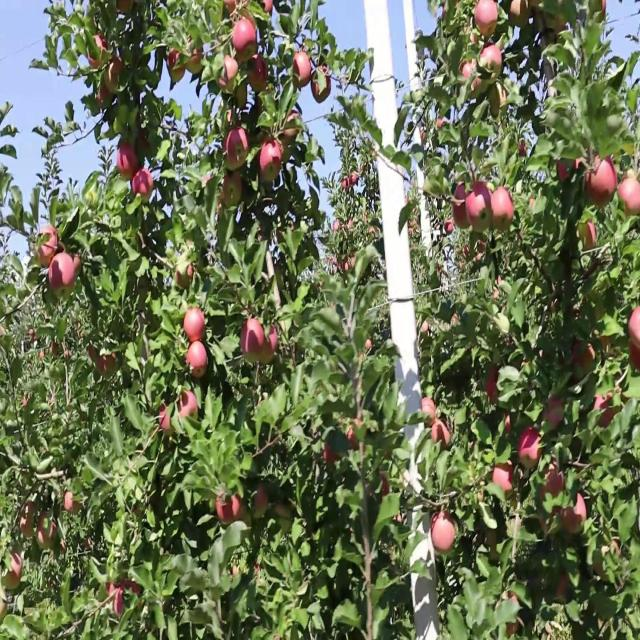apple: (592, 156, 618, 204), (540, 462, 566, 510), (468, 184, 492, 233), (564, 490, 588, 535), (596, 540, 623, 580), (432, 511, 456, 555), (492, 191, 516, 235), (500, 590, 522, 638), (36, 227, 60, 270), (48, 255, 75, 293), (220, 170, 244, 212), (520, 426, 543, 469), (216, 490, 243, 526), (116, 583, 143, 619), (228, 127, 250, 171), (240, 319, 264, 359), (236, 21, 259, 62), (260, 142, 283, 183), (476, 1, 500, 39), (116, 142, 140, 180), (312, 63, 332, 107), (292, 49, 312, 91), (184, 305, 207, 341), (460, 56, 483, 92), (584, 170, 607, 206), (480, 42, 504, 76), (596, 391, 618, 428), (452, 184, 470, 228), (492, 462, 515, 496), (544, 398, 567, 432), (188, 341, 208, 380), (248, 56, 268, 94), (620, 177, 640, 215), (132, 170, 155, 203), (88, 35, 109, 71), (572, 341, 596, 372), (260, 327, 280, 364), (4, 554, 24, 590), (220, 56, 240, 91), (488, 85, 508, 119), (348, 412, 365, 452), (108, 56, 127, 91), (432, 419, 452, 452), (280, 113, 301, 144), (168, 49, 186, 85), (508, 0, 531, 28), (40, 511, 57, 548), (556, 156, 579, 183), (180, 391, 200, 420), (176, 263, 196, 292), (188, 42, 204, 78), (484, 369, 500, 404), (160, 405, 176, 436), (420, 398, 438, 425), (108, 583, 122, 617), (140, 127, 154, 160), (628, 305, 640, 343), (64, 490, 81, 516), (584, 220, 597, 251), (24, 497, 38, 523), (100, 355, 118, 375), (236, 85, 249, 112), (256, 483, 268, 512), (96, 85, 111, 108), (324, 447, 340, 468), (556, 575, 570, 599), (20, 519, 35, 540), (72, 255, 84, 281), (116, 0, 135, 16), (104, 355, 118, 375), (380, 476, 391, 500), (632, 341, 640, 372), (224, 0, 238, 16), (96, 355, 107, 375), (504, 412, 513, 434), (264, 0, 275, 16), (88, 348, 98, 363), (84, 540, 92, 551), (5, 606, 7, 612)
